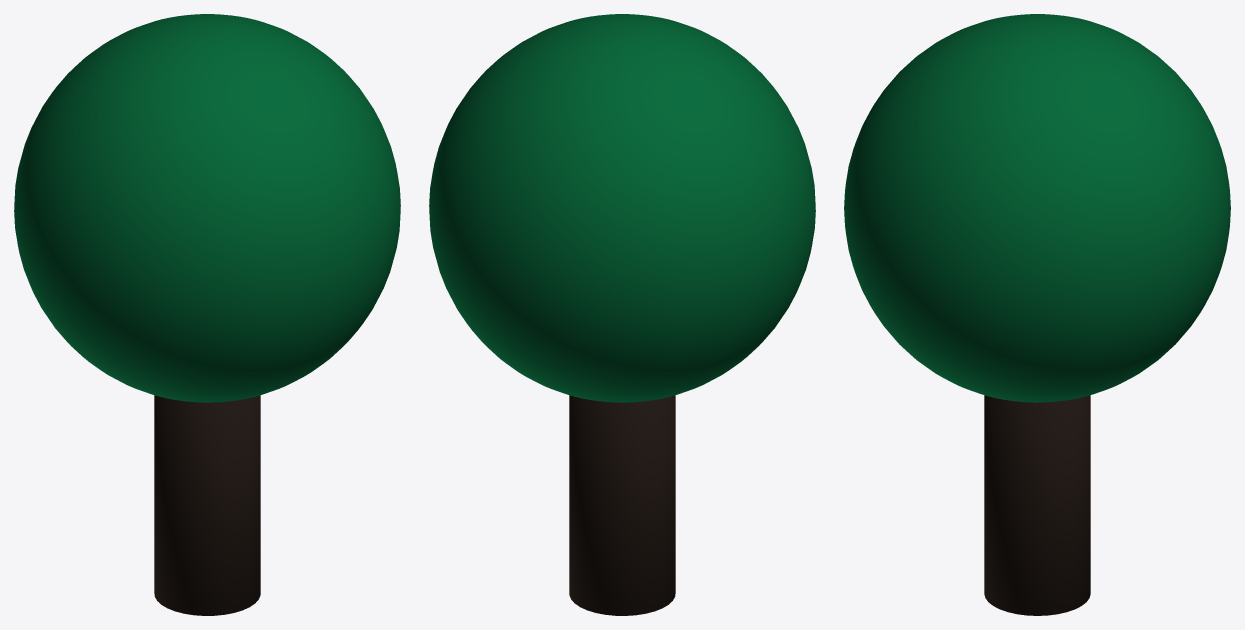
3 views of the same model, side by side, from view 1: azimuth 30°, elevation 25°; view 2: azimuth 150°, elevation 25°; view 3: azimuth 270°, elevation 25° (orthographic).
Parts seen in each view (by area): view 1: tree4 combined; view 2: tree4 combined; view 3: tree4 combined.
Part boxes in pixels (x1,y1,x2,y2): tree4 combined: [14, 14, 400, 615]; tree4 combined: [429, 14, 815, 615]; tree4 combined: [844, 14, 1230, 615].
Bounding box in the file's own units: 2.45 × 3.93 × 2.45.
